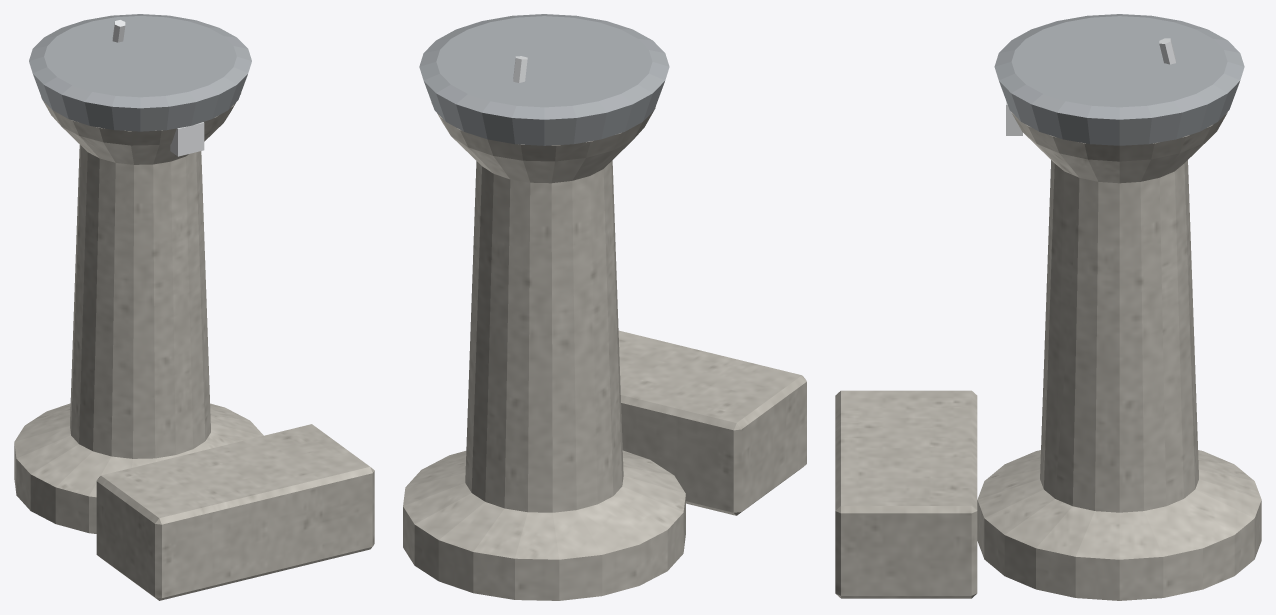
File: fountain.glb
The picture shows the model from 3 angles, left to right: view 1: azimuth 30°, elevation 25°; view 2: azimuth 150°, elevation 25°; view 3: azimuth 270°, elevation 25°; orthographic projection. The views are drawn at different scales.
Parts seen in each view (by area): view 1: fountain_concrete, fountain_steel, fountain_chrome; view 2: fountain_concrete, fountain_steel; view 3: fountain_concrete, fountain_steel, fountain_chrome.
Part boxes in pixels (bbox=[...]): fountain_concrete: bbox=[14, 93, 374, 600]; fountain_steel: bbox=[29, 14, 251, 131]; fountain_chrome: bbox=[112, 20, 204, 156]; fountain_concrete: bbox=[403, 102, 806, 600]; fountain_steel: bbox=[419, 14, 669, 145]; fountain_concrete: bbox=[835, 112, 1261, 600]; fountain_steel: bbox=[994, 14, 1244, 145]; fountain_chrome: bbox=[1006, 38, 1175, 135].
Size of the model in its own units: 0.5 by 0.9723 by 0.75.
3 materials, 1 textured.
